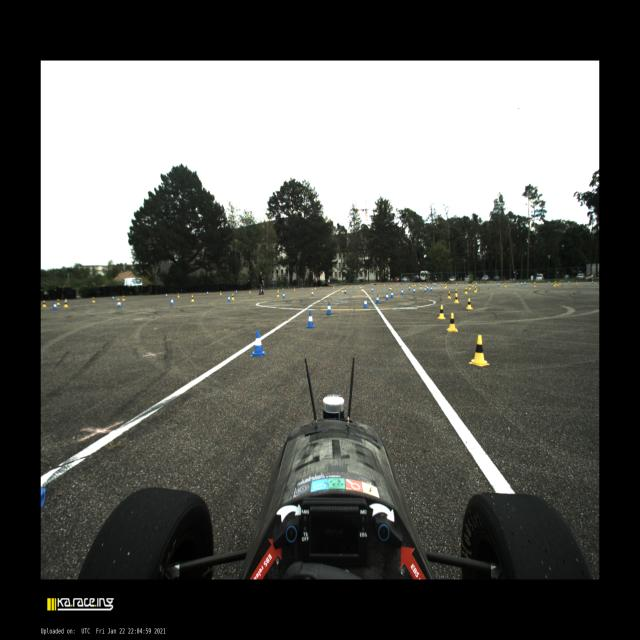blue_cone: (250, 331, 266, 356), (306, 312, 315, 328), (327, 302, 332, 315), (363, 298, 368, 308), (375, 295, 380, 303), (54, 302, 58, 310), (170, 298, 174, 305), (282, 292, 286, 298), (118, 300, 121, 308), (391, 291, 394, 298), (401, 288, 404, 294), (344, 288, 347, 294), (311, 290, 314, 296), (386, 292, 388, 300), (430, 286, 433, 291), (228, 295, 230, 302), (413, 288, 416, 292), (408, 286, 411, 290), (388, 286, 391, 290), (165, 293, 168, 297), (112, 296, 115, 300), (424, 287, 426, 292), (372, 287, 374, 292), (516, 282, 518, 286), (426, 286, 428, 290), (475, 282, 477, 286), (524, 281, 526, 285), (548, 281, 550, 284), (592, 280, 593, 284), (568, 280, 569, 284), (498, 282, 499, 286), (207, 291, 208, 295), (282, 288, 284, 290), (408, 283, 410, 285), (418, 283, 420, 285), (521, 282, 522, 285), (236, 290, 237, 293), (456, 283, 457, 286), (441, 283, 442, 286), (435, 283, 436, 286), (360, 284, 361, 287), (302, 287, 303, 289), (321, 286, 322, 288), (335, 286, 336, 288), (398, 283, 399, 285), (429, 283, 430, 285), (348, 285, 349, 287), (371, 284, 372, 286), (432, 283, 433, 285)
yellow_cone: (469, 335, 489, 366), (446, 313, 458, 332), (437, 305, 446, 319), (466, 298, 473, 310), (454, 294, 459, 303), (63, 300, 68, 307), (447, 290, 451, 298), (464, 287, 468, 294), (231, 293, 235, 300), (42, 300, 46, 307), (116, 298, 120, 305), (454, 289, 458, 295), (191, 295, 194, 302), (92, 297, 96, 302), (57, 299, 60, 305), (474, 287, 477, 292), (419, 284, 422, 289), (469, 284, 471, 290), (504, 282, 506, 288), (122, 296, 125, 300), (277, 291, 279, 297), (444, 284, 447, 288), (557, 281, 559, 286), (361, 286, 363, 291), (342, 287, 344, 292), (472, 282, 474, 287), (534, 283, 536, 287), (554, 282, 556, 286), (178, 293, 180, 297), (220, 291, 222, 295), (249, 289, 251, 293), (559, 280, 561, 284), (414, 283, 416, 286), (333, 286, 335, 289), (396, 283, 398, 286), (350, 285, 352, 288), (362, 284, 364, 287), (372, 284, 374, 287), (391, 285, 392, 290), (425, 283, 426, 287), (294, 287, 295, 291), (315, 286, 316, 290), (383, 284, 385, 286), (411, 284, 413, 286), (576, 281, 577, 284), (278, 288, 279, 291), (406, 283, 407, 286)
